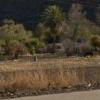Tree: (37, 5, 100, 60)
